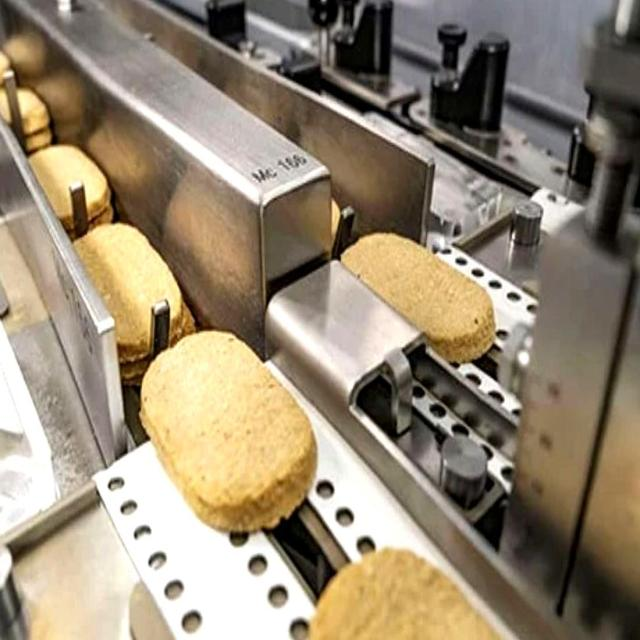food: (139, 311, 322, 530)
